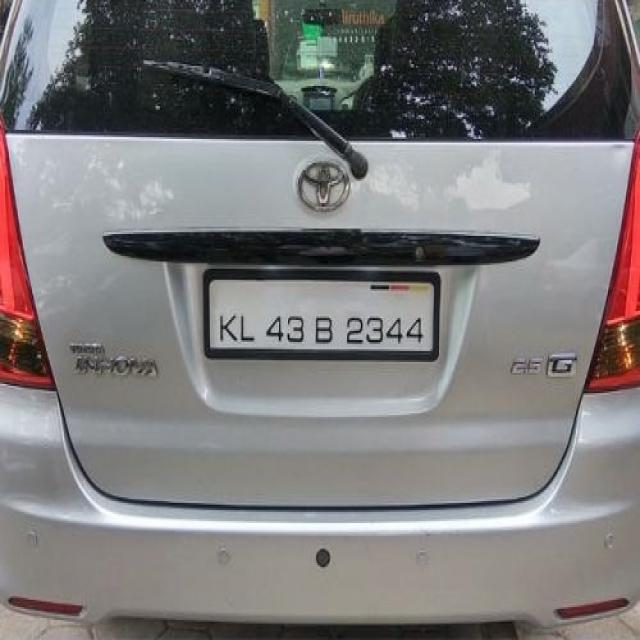number_plate: (208, 294, 428, 355)
